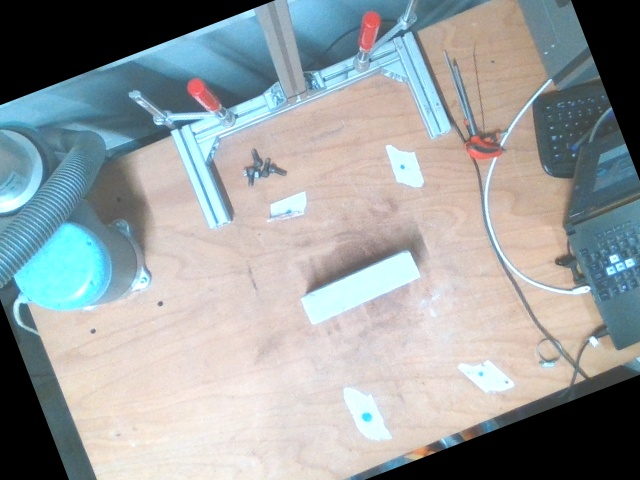brick-side: (301, 249, 421, 326)
